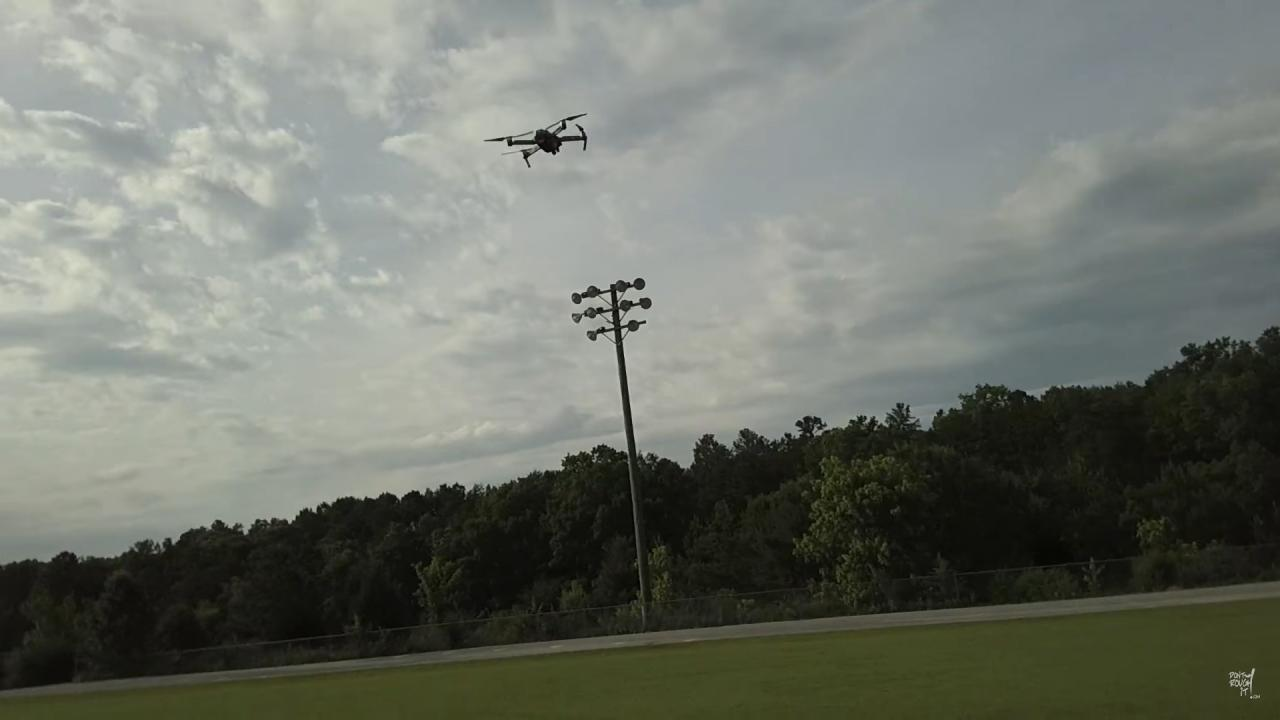Drone: (481, 106, 599, 173)
